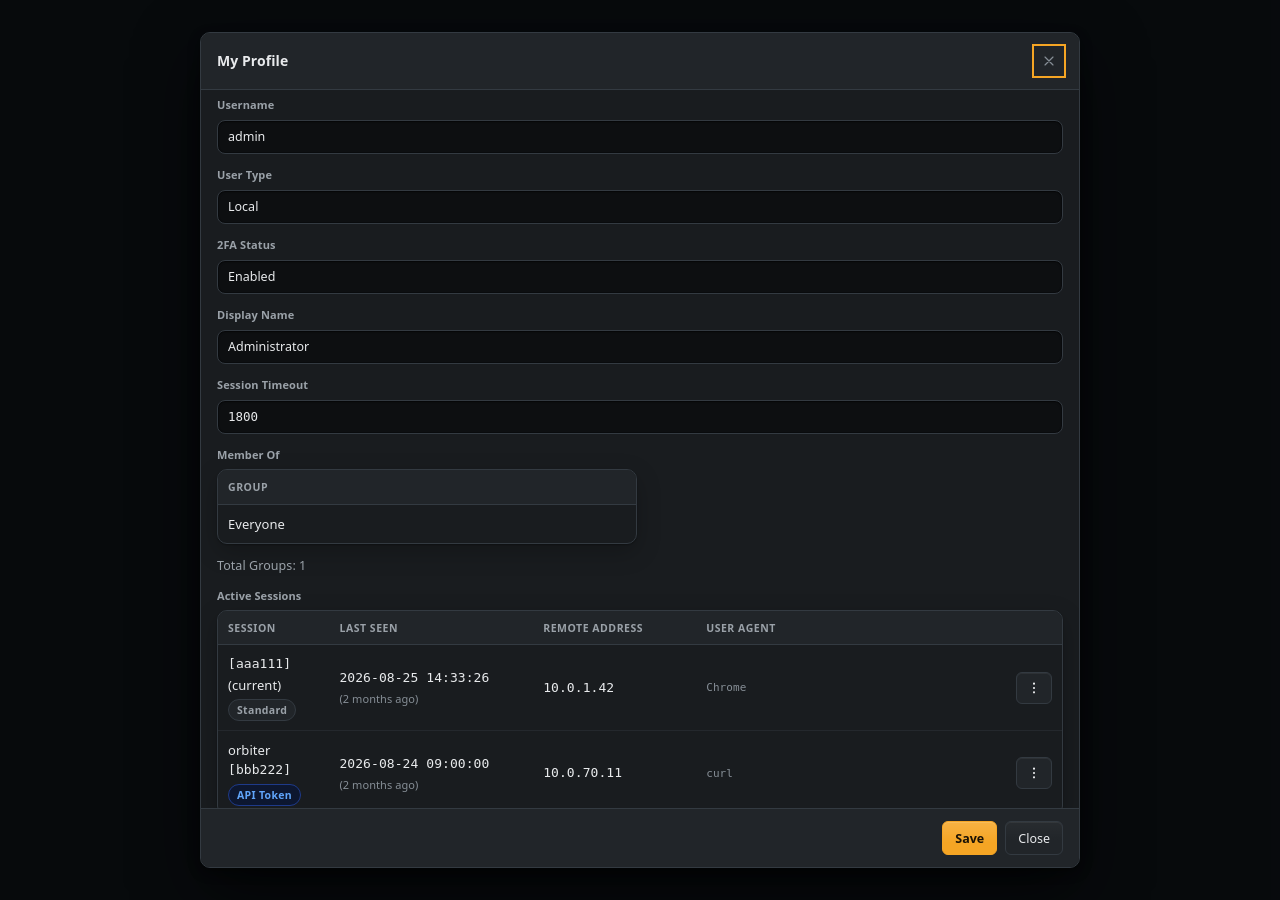
My Profile: active sessions › on confirming it deletes and alerts with the literal text
The width and height of the screenshot is (1280, 900).
Click the button named "Actions for bbb222" at [1034, 773], box [1017,758,1051,788]
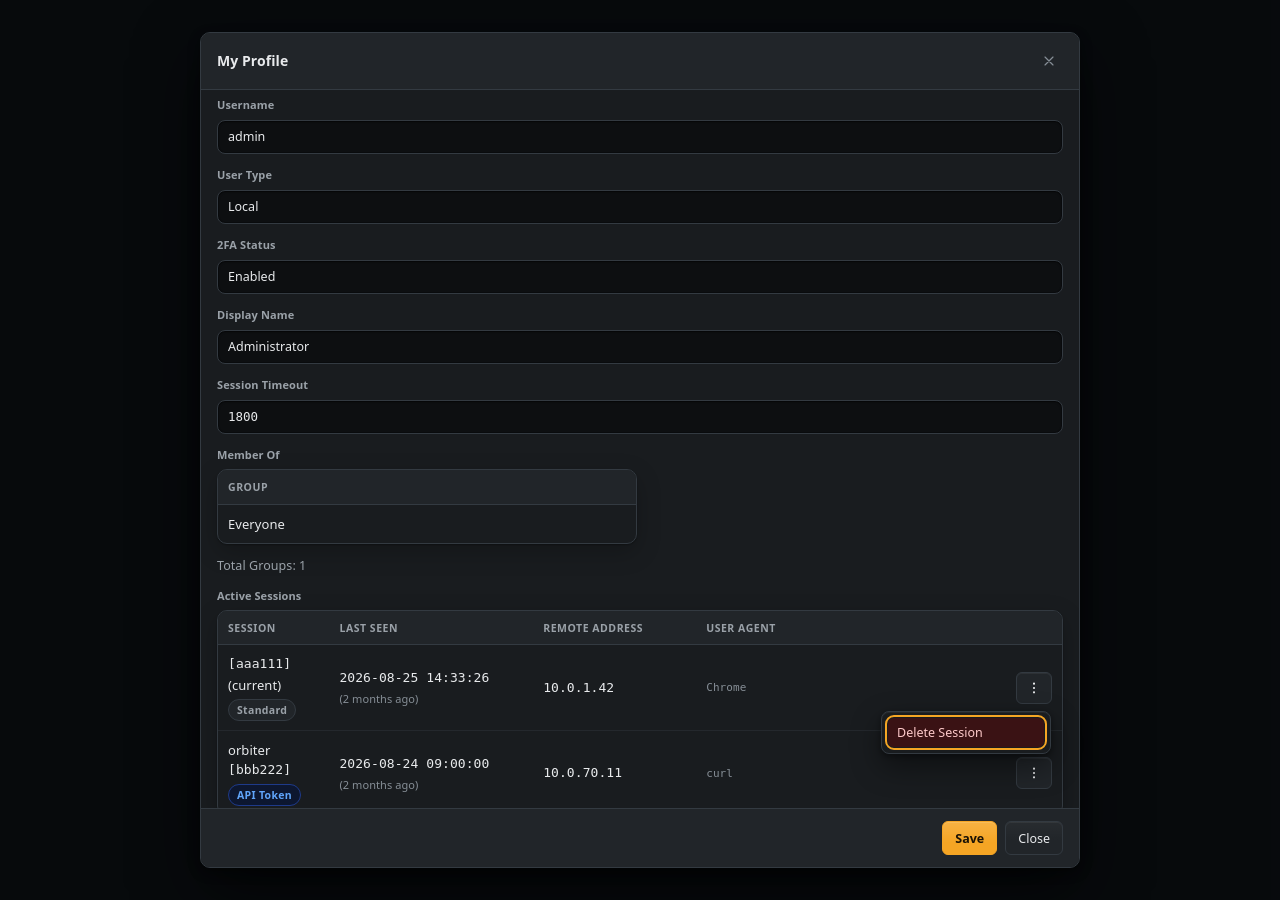
Click the menu item "Delete Session" at [966, 733], box [888,718,1044,747]
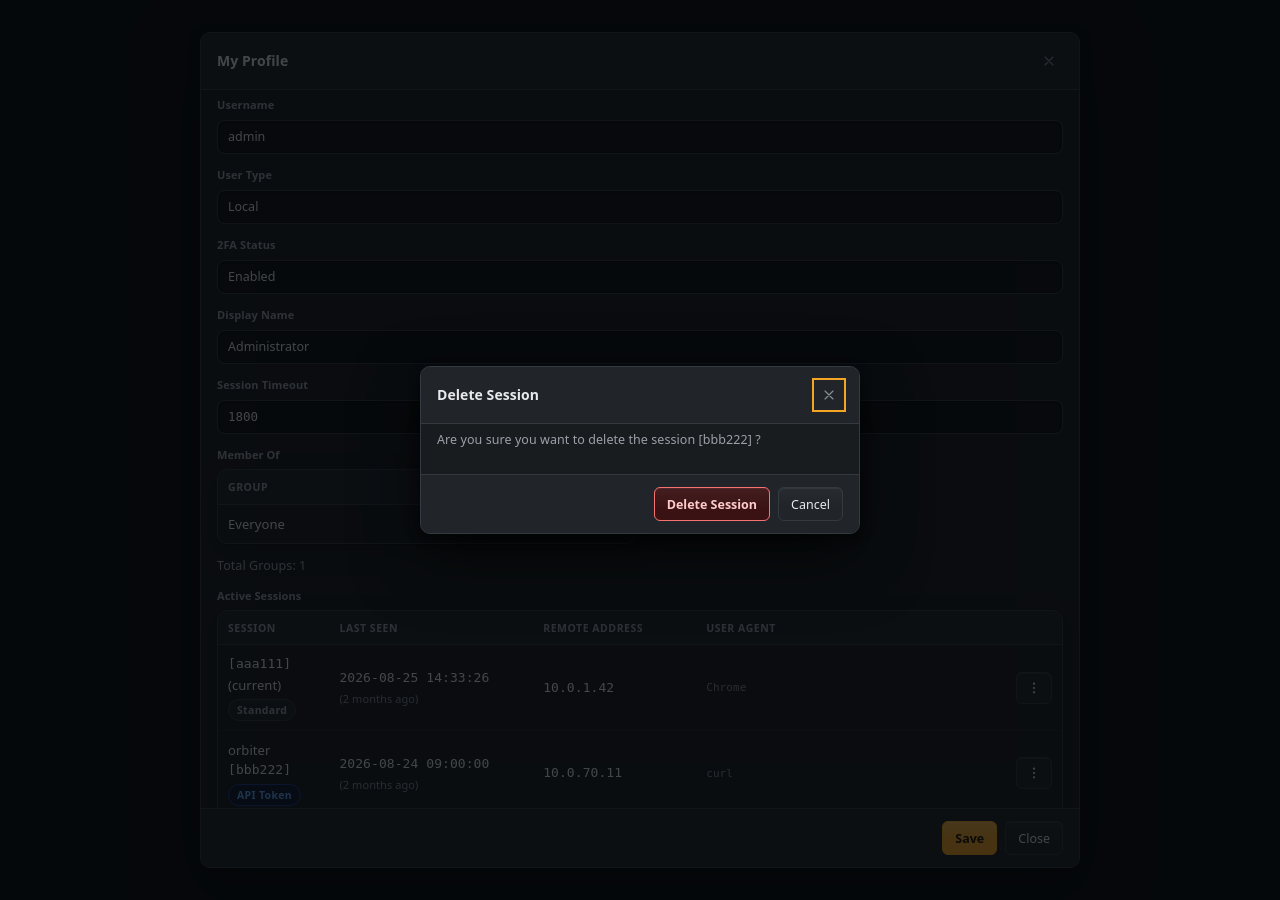
Click the button "Delete Session" at [712, 504], box [654,487,770,521]
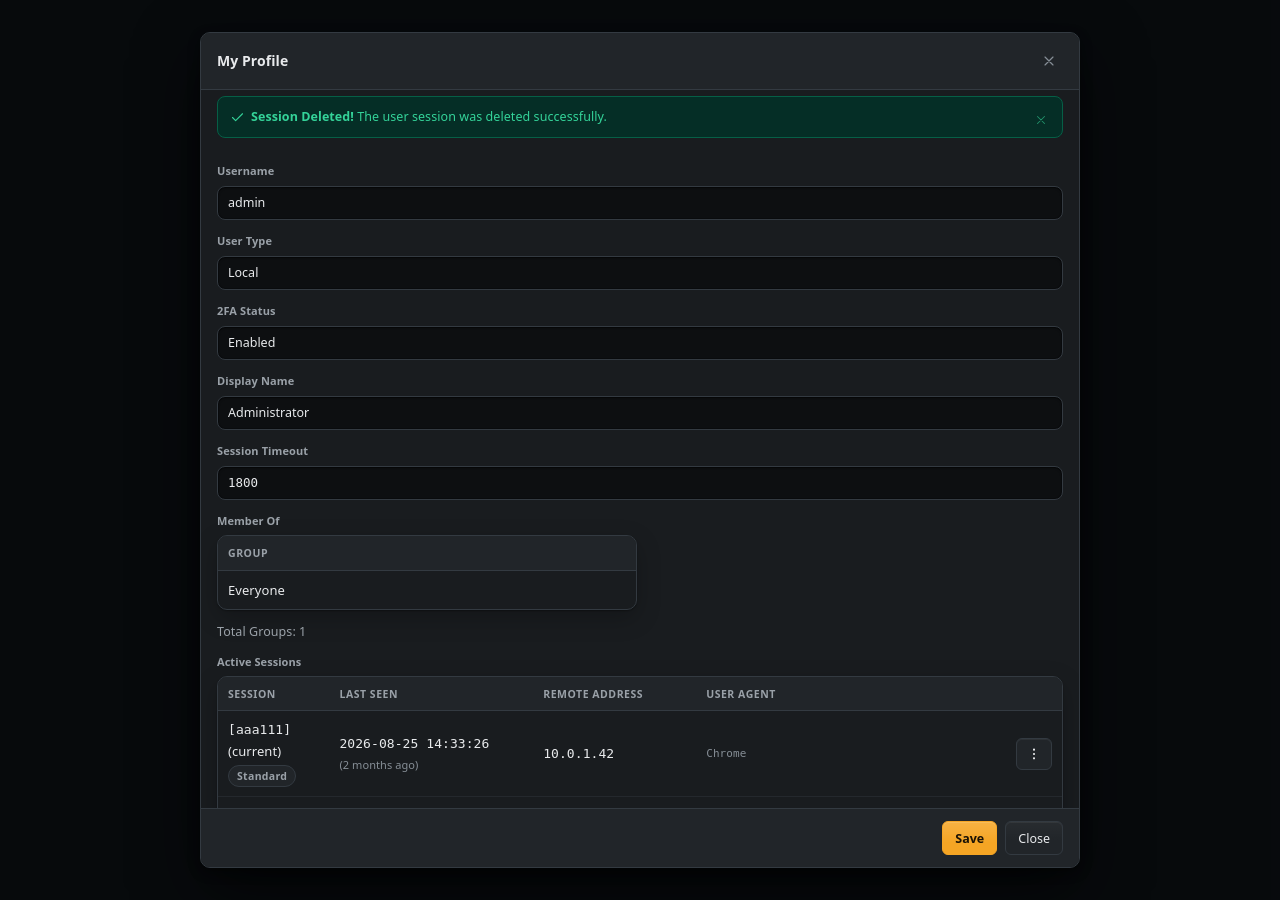
Check: the text "The user session was deleted successfully." is shown, box [357,108,607,125]
